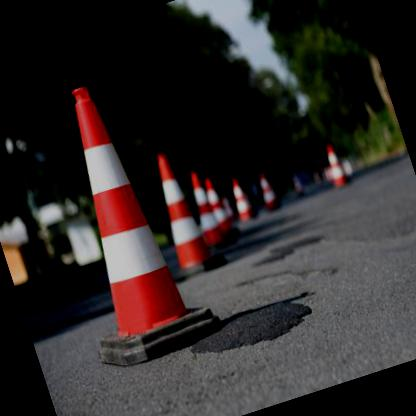cone: (32, 69, 215, 356), (146, 152, 209, 266), (185, 167, 225, 239), (202, 174, 236, 240), (228, 173, 256, 222), (322, 140, 350, 188), (255, 164, 283, 211)
